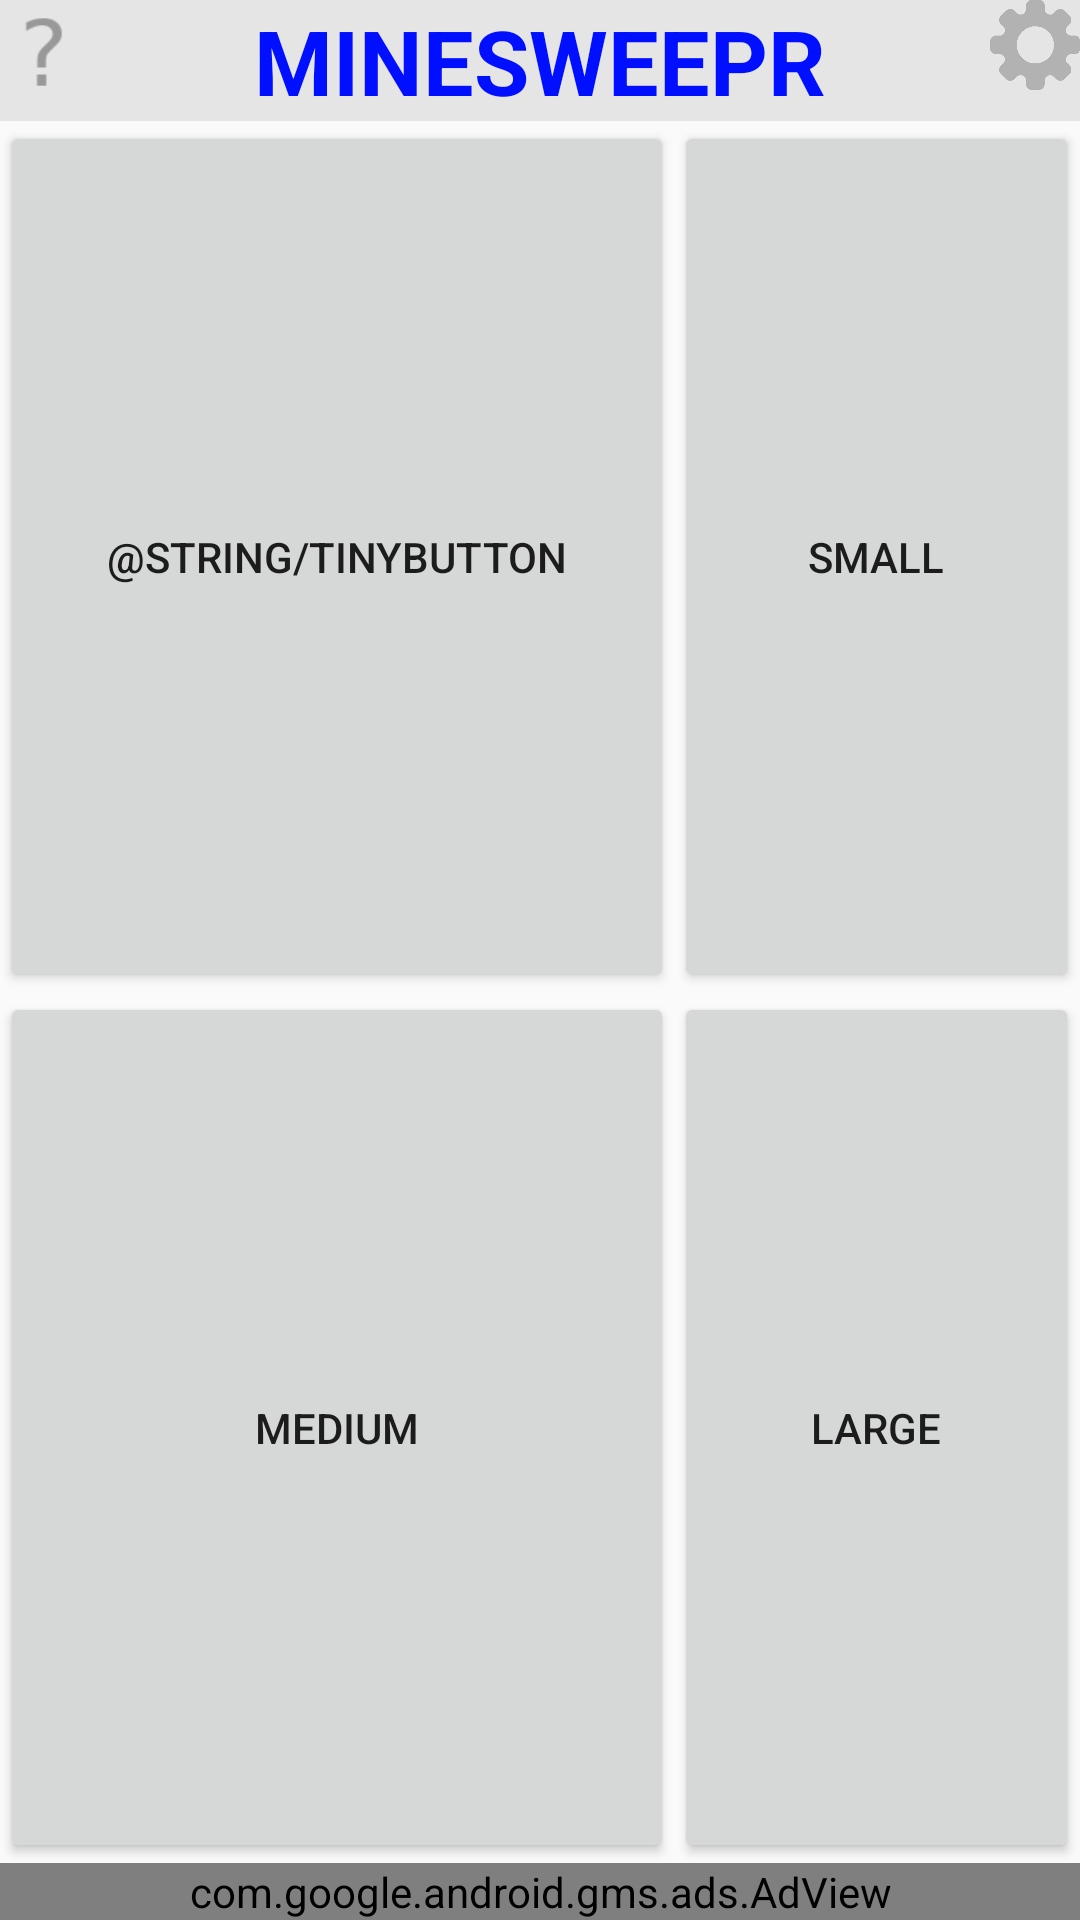

Screen size 1080w x 1920h. Icon name, then its center in pixels as [x,y]:
gear: [1035,45]
